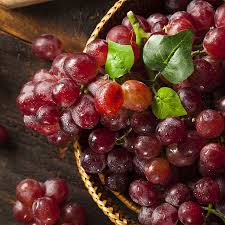Red Grapes: (25, 40, 154, 145), (123, 140, 217, 225), (9, 176, 91, 225)
